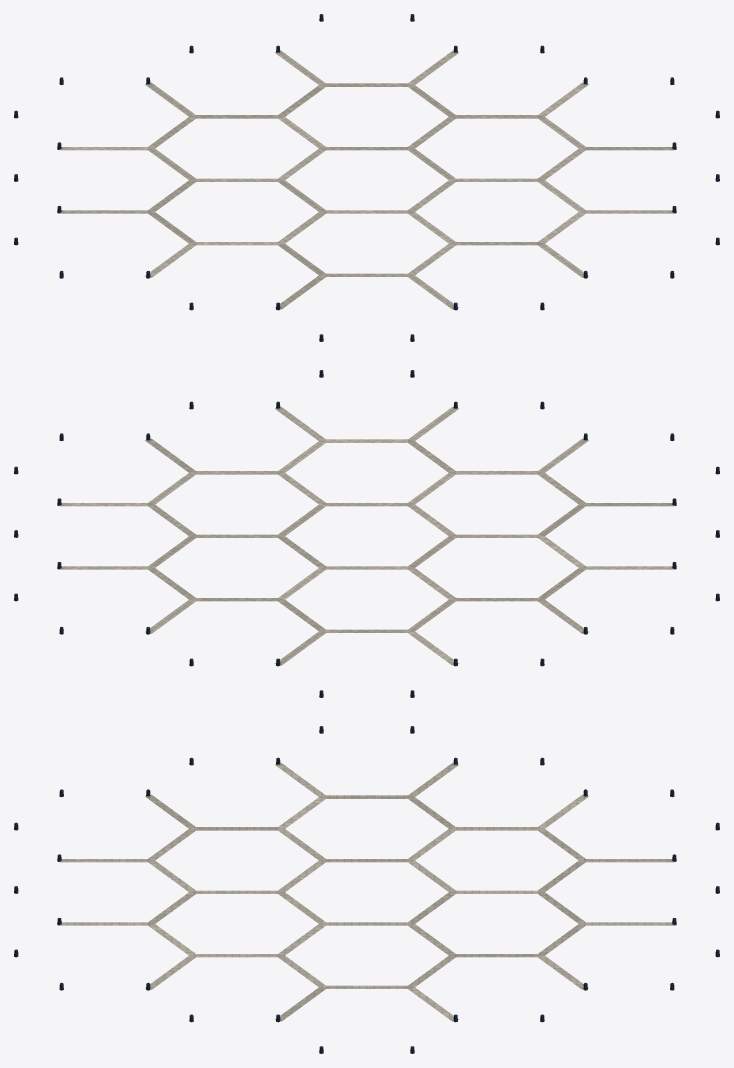
The model's file is ground-15.glb.
The picture shows the model from 3 angles, top to bottom: view 1: azimuth 30°, elevation 25°; view 2: azimuth 150°, elevation 25°; view 3: azimuth 270°, elevation 25°; orthographic projection.
Visible parts, largest first — view 1: ground-15; view 2: ground-15; view 3: ground-15.
Boxes of the visible parts, x1,y1,x2,y2 form: ground-15: (14,14,719,341); ground-15: (14,370,719,697); ground-15: (14,726,719,1053).
Size of the model in its own units: 10.16 by 0.0899 by 9.41.
Materials: 1 (1 with a texture image).
